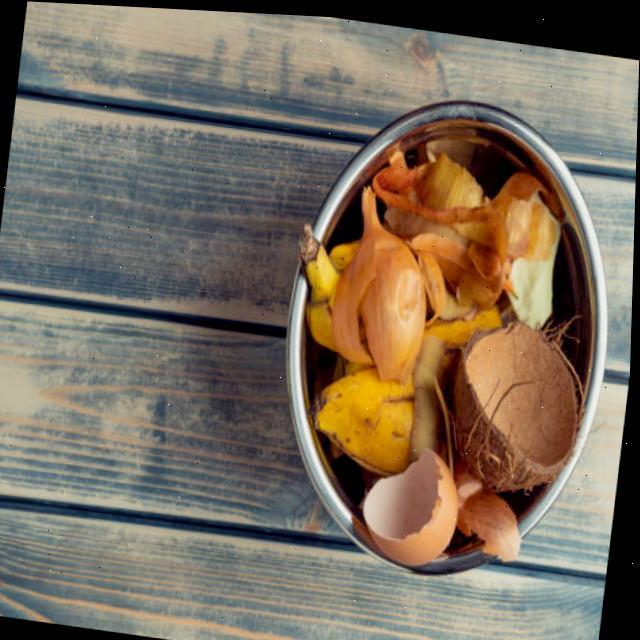Garbage: (301, 146, 583, 558)
